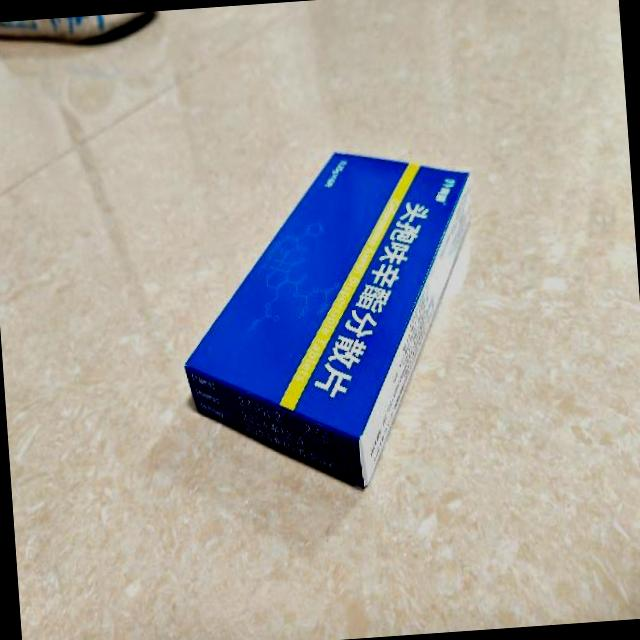box: (170, 142, 492, 500)
